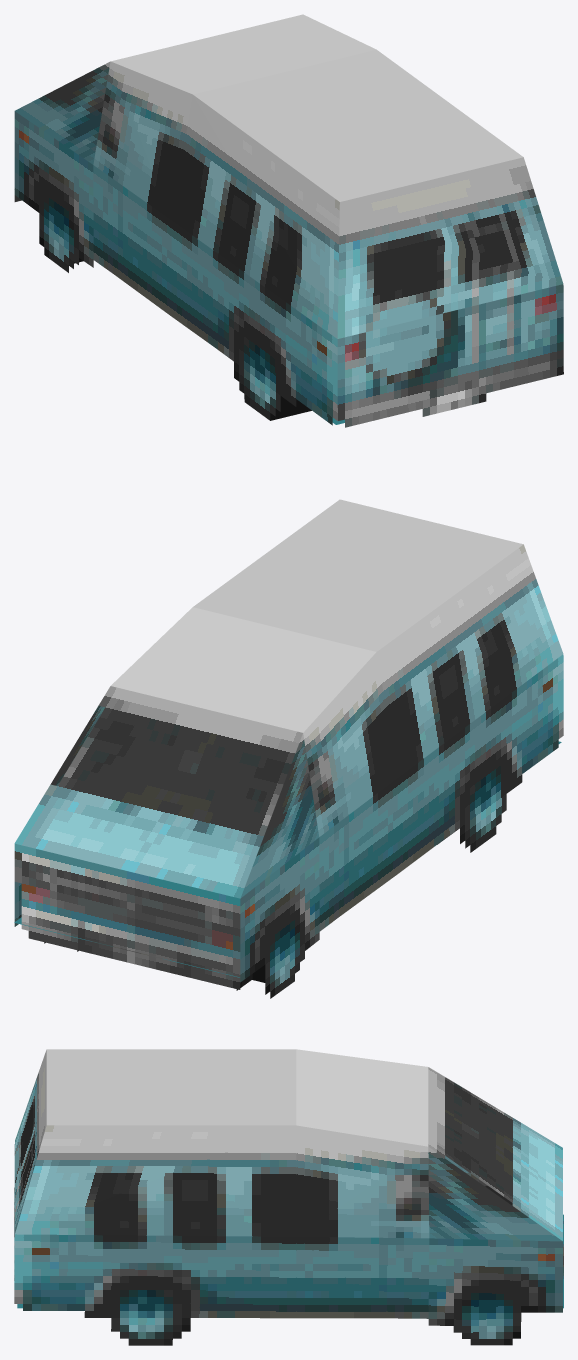
The model's file is car-vandura-plt2.glb.
The picture shows the model from 3 angles, top to bottom: view 1: azimuth 30°, elevation 25°; view 2: azimuth 150°, elevation 25°; view 3: azimuth 270°, elevation 25°; orthographic projection. The views are drawn at different scales.
Parts seen in each view (by area): view 1: car-vandura-plt2; view 2: car-vandura-plt2; view 3: car-vandura-plt2.
Boxes of the visible parts, x1,y1,x2,y2 form: car-vandura-plt2: (14, 14, 563, 427); car-vandura-plt2: (14, 499, 563, 998); car-vandura-plt2: (14, 1049, 563, 1345).
Size of the model in its own units: 2.02 by 2.12 by 5.01.
16 materials, 16 textured.
